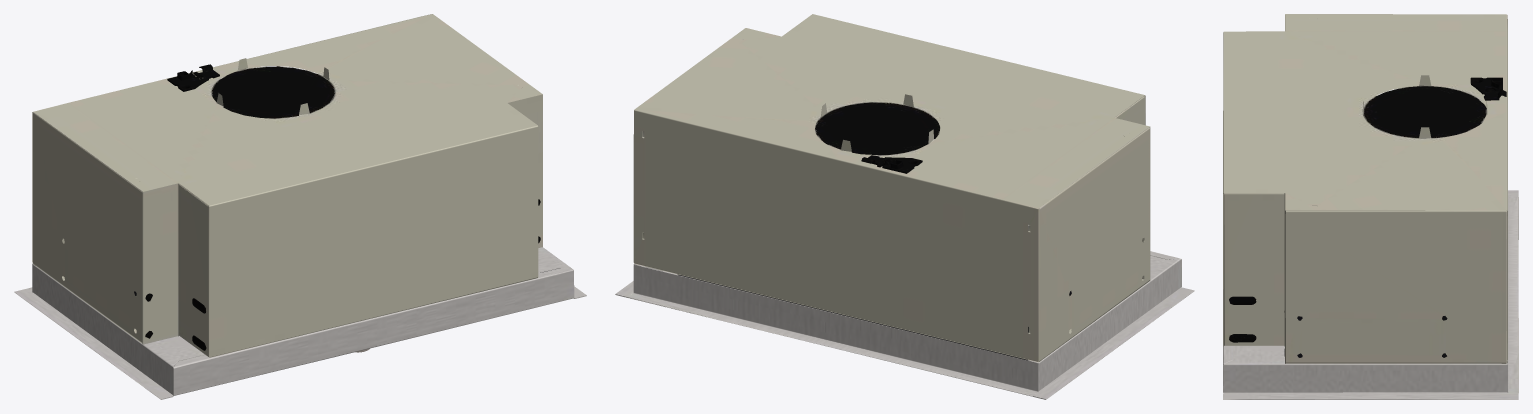
Rendered from underverk_wbudowany_okap_kominowy_70389139.glb.
3 renders of one model, left to right at view 1: azimuth 30°, elevation 25°; view 2: azimuth 150°, elevation 25°; view 3: azimuth 270°, elevation 25°, orthographic.
Visible parts, largest first — view 1: underverk_wbudowany_okap_kominowy_70389139; view 2: underverk_wbudowany_okap_kominowy_70389139; view 3: underverk_wbudowany_okap_kominowy_70389139.
Part boxes in pixels (x1=…): underverk_wbudowany_okap_kominowy_70389139: x1=14, y1=14, x2=586, y2=399; underverk_wbudowany_okap_kominowy_70389139: x1=615, y1=14, x2=1194, y2=399; underverk_wbudowany_okap_kominowy_70389139: x1=1223, y1=14, x2=1518, y2=399.
Bounding box in the file's own units: 0.599 × 0.2747 × 0.3581.
Materials: 2 (2 with a texture image).
